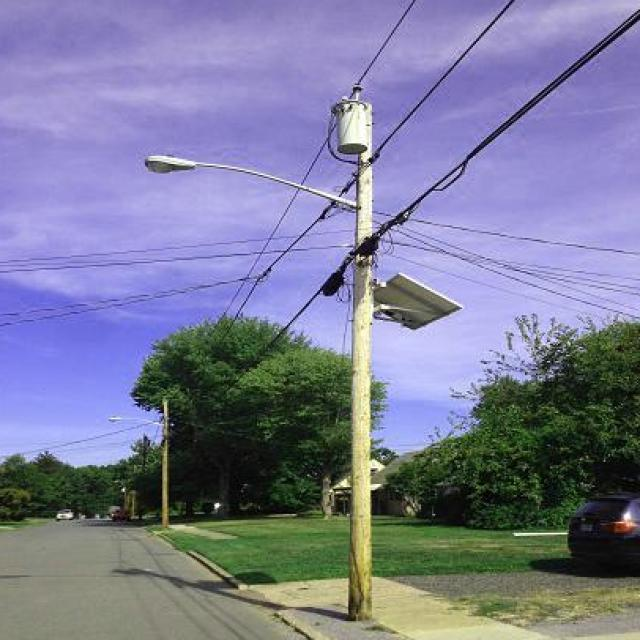non-critical vegetation: (290, 72, 435, 614)
